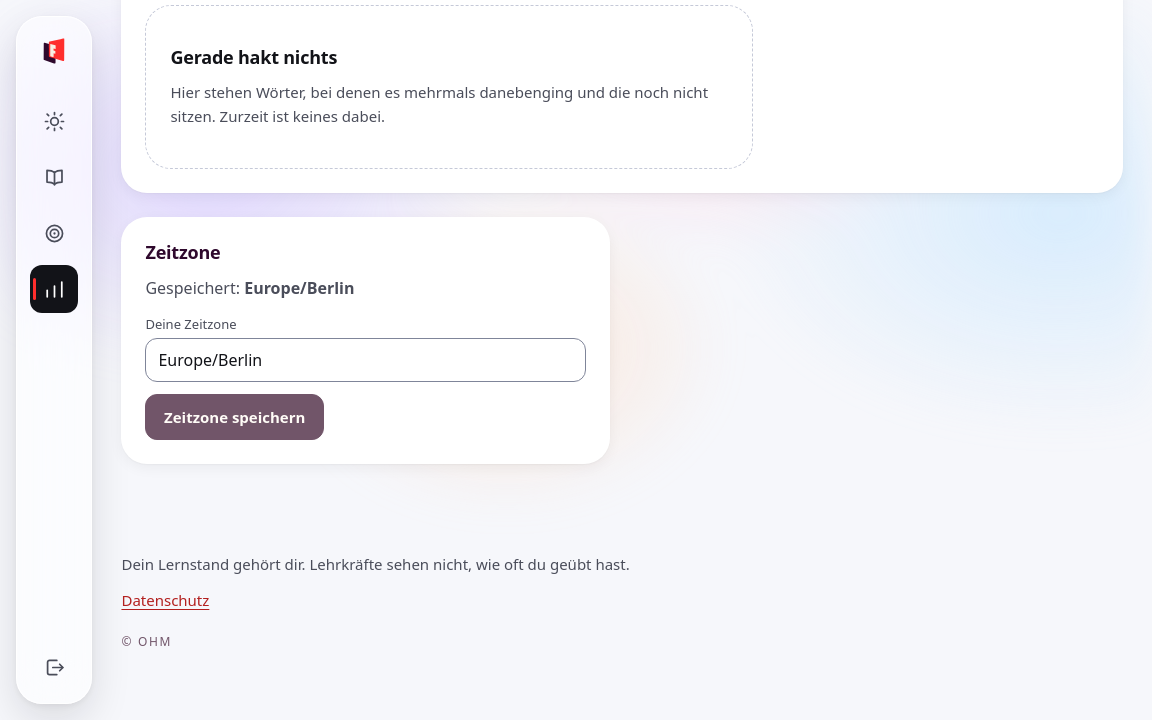
Test: Die Zeitzone bearbeiten › stellt einen abgelehnten Wert nicht als gespeichert dar
The image size is (1152, 720).
(page scrolled)
Select "Europe/Vienna" in the dropdown labelled "Deine Zeitzone" at [366, 360], box [145, 338, 586, 382]
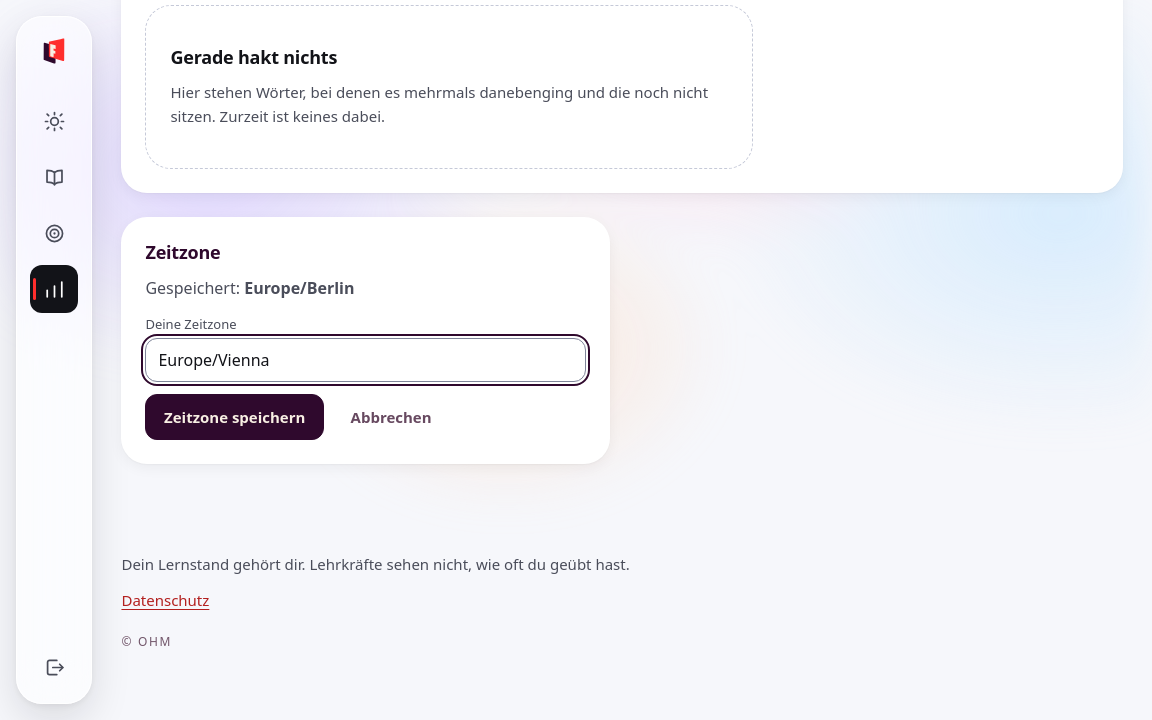
Click the button "Zeitzone speichern".
click(235, 417)  # box [145, 394, 324, 440]
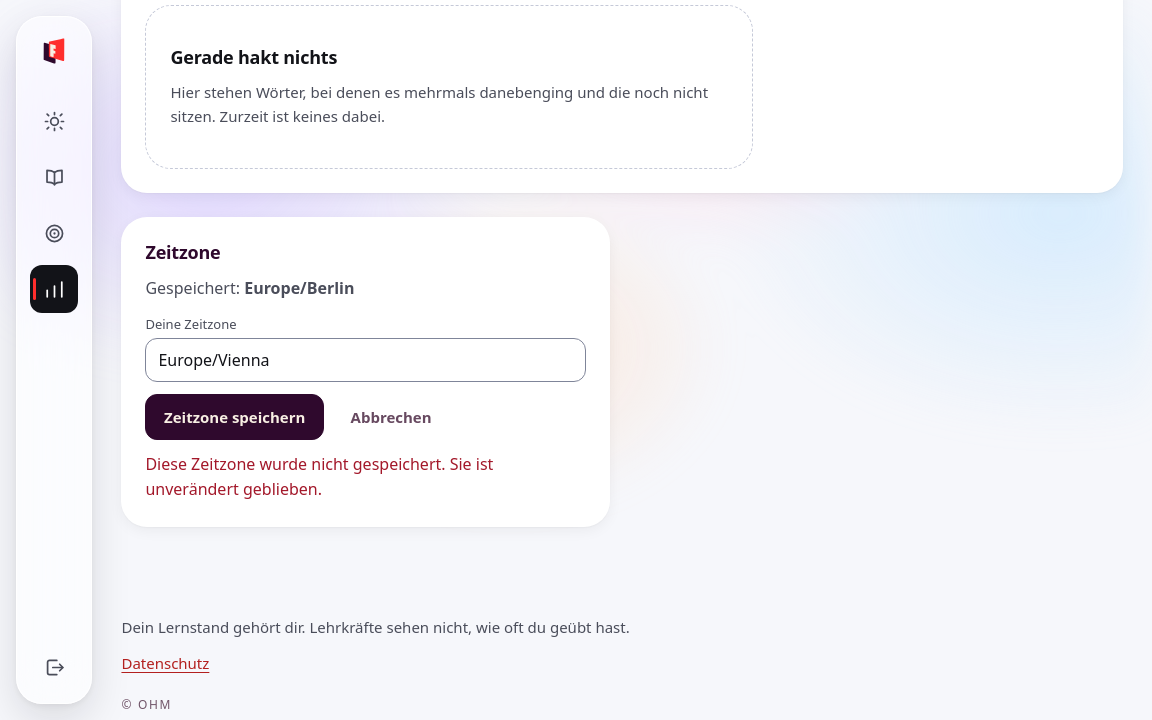
expect the text with class "fortschritt__wert" reads "Europe/Berlin": met, box [244, 277, 354, 299]
expect the message shows "nicht gespeichert": met, box [145, 453, 493, 500]
